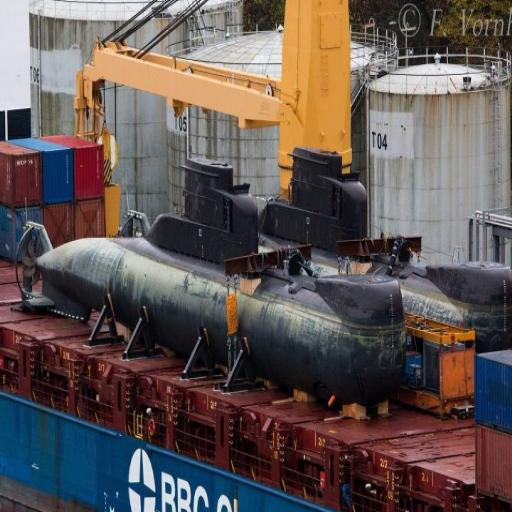submarine: (10, 200, 408, 396), (275, 143, 512, 364)
